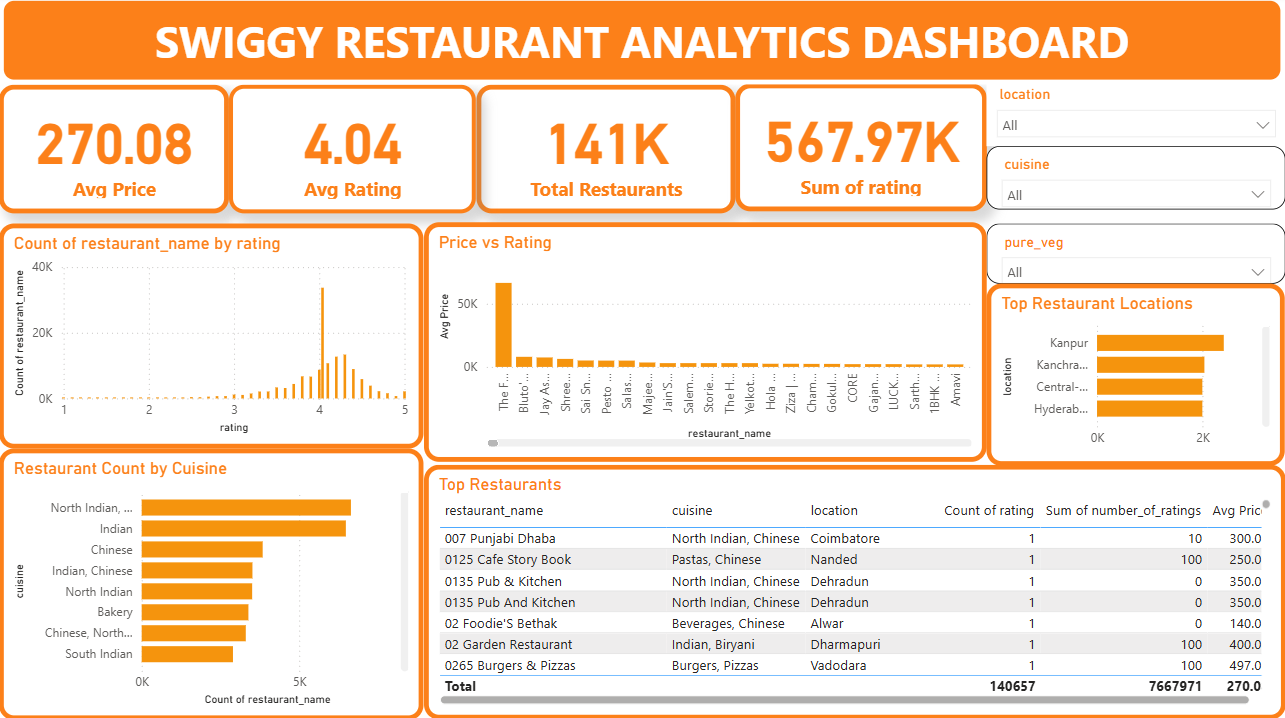

The dashboard page shown, as its layout file describes it:
{"tool":"powerbi","page":{"name":"Page 1","canvas":[1280,720],"ordinal":0},"visuals":[{"type":"card","fields":{"Values":["swiggy_cleaned.Avg Price"]},"box":[0,87.8,229.2,127.6],"z":0},{"type":"card","fields":{"Values":["swiggy_cleaned.Total Restaurants"]},"box":[474.8,87.8,258,127.6],"z":1000},{"type":"card","fields":{"Values":["Sum(swiggy_cleaned.rating)"]},"box":[732.9,87.1,250,127.1],"z":2000},{"type":"card","fields":{"Values":["swiggy_cleaned.Avg Rating"]},"box":[229.2,87.8,245.6,127.6],"z":3000},{"type":"slicer","fields":{"Values":["swiggy_cleaned.cuisine"]},"box":[982.5,149.6,297.8,63.1],"z":4000},{"type":"slicer","fields":{"Values":["swiggy_cleaned.location"]},"box":[982.5,85.1,297.8,64.5],"z":5000},{"type":"slicer","fields":{"Values":["swiggy_cleaned.pure_veg"]},"box":[982.5,226.4,297.8,60.4],"z":6000},{"type":"clusteredBarChart","title":"Restaurant Count by Cuisine","fields":{"Category":["swiggy_cleaned.cuisine"],"Y":["CountNonNull(swiggy_cleaned.restaurant_name)"]},"box":[0,450.1,422.6,270.3],"z":7000},{"type":"clusteredColumnChart","fields":{"Category":["swiggy_cleaned.rating"],"Y":["CountNonNull(swiggy_cleaned.restaurant_name)"]},"box":[0,226.4,422.6,223.7],"z":8000},{"type":"clusteredBarChart","title":"Top Restaurant Locations","fields":{"Category":["swiggy_cleaned.location"],"Y":["CountNonNull(swiggy_cleaned.restaurant_name)"]},"box":[982.9,285.7,297.1,181.4],"z":9000},{"type":"lineStackedColumnComboChart","title":"Price vs Rating","fields":{"Y":["swiggy_cleaned.Avg Price"],"Category":["swiggy_cleaned.restaurant_name"]},"box":[422.9,225.7,560,238.6],"z":10000},{"type":"tableEx","title":"Top Restaurants","fields":{"Values":["swiggy_cleaned.restaurant_name","swiggy_cleaned.cuisine","swiggy_cleaned.location","CountNonNull(swiggy_cleaned.rating)","Sum(swiggy_cleaned.number_of_ratings)","swiggy_cleaned.Avg Price"]},"box":[422.6,466.6,857.6,253.9],"z":11000},{"type":"textbox","box":[0,0,1280.3,87.8],"z":12000}]}

Visuals, with their boxes in screenshot pixels (x1, y1, x2, y2), scaled from the page's 1280x720 canvas onto the 1285x718 screenshot:
card - swiggy_cleaned.Avg Price: 0:88:230:215
card - swiggy_cleaned.Total Restaurants: 477:88:736:215
card - Sum(swiggy_cleaned.rating): 736:87:987:214
card - swiggy_cleaned.Avg Rating: 230:88:477:215
slicer - swiggy_cleaned.cuisine: 986:149:1284:212
slicer - swiggy_cleaned.location: 986:85:1284:149
slicer - swiggy_cleaned.pure_veg: 986:226:1284:286
"Restaurant Count by Cuisine" clusteredBarChart: 0:449:424:717
clusteredColumnChart - swiggy_cleaned.rating x CountNonNull(swiggy_cleaned.restaurant_name): 0:226:424:449
"Top Restaurant Locations" clusteredBarChart: 987:285:1284:466
"Price vs Rating" lineStackedColumnComboChart: 425:225:987:463
"Top Restaurants" tableEx: 424:465:1284:717
textbox: 0:0:1284:88
